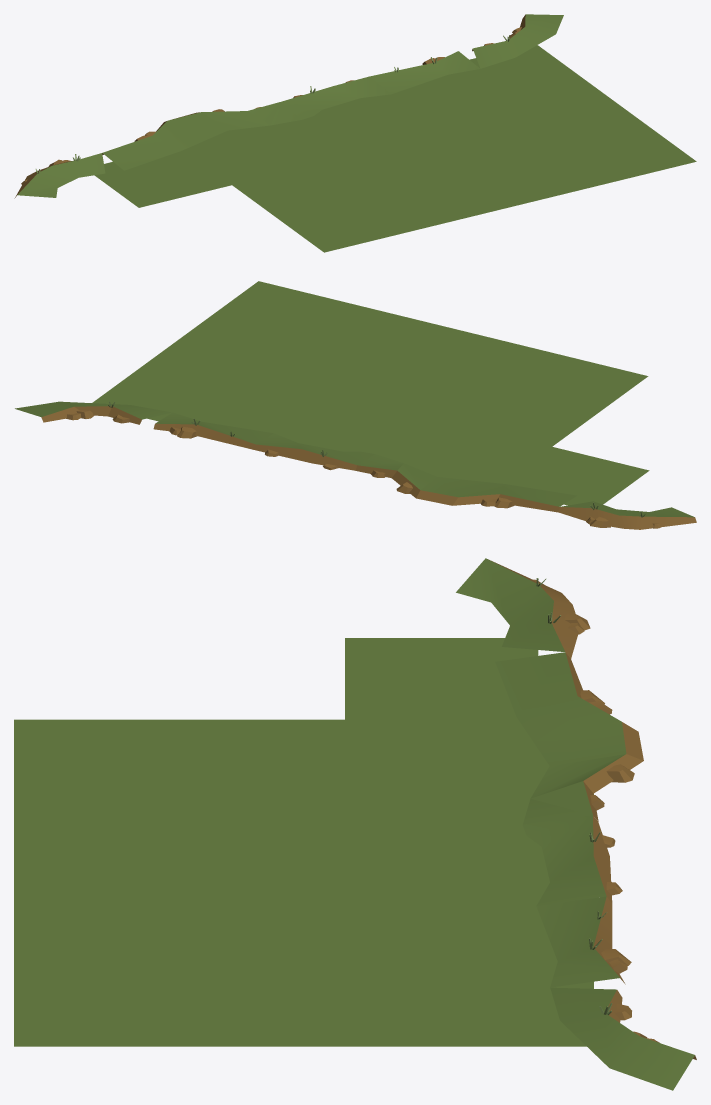
The model's file is BankLeft.fbx.
The picture shows the model from 3 angles, top to bottom: view 1: azimuth 30°, elevation 25°; view 2: azimuth 150°, elevation 25°; view 3: azimuth 270°, elevation 25°; orthographic projection. The views are drawn at different scales.
Parts seen in each view (by area): view 1: BankLeft; view 2: BankLeft; view 3: BankLeft.
Boxes of the visible parts, box(x1,y1,x2,y2) form: BankLeft: box(14, 14, 696, 252); BankLeft: box(15, 281, 696, 529); BankLeft: box(14, 558, 696, 1090).
Bounding box in the file's own units: 129 × 2.59 × 70.65.
